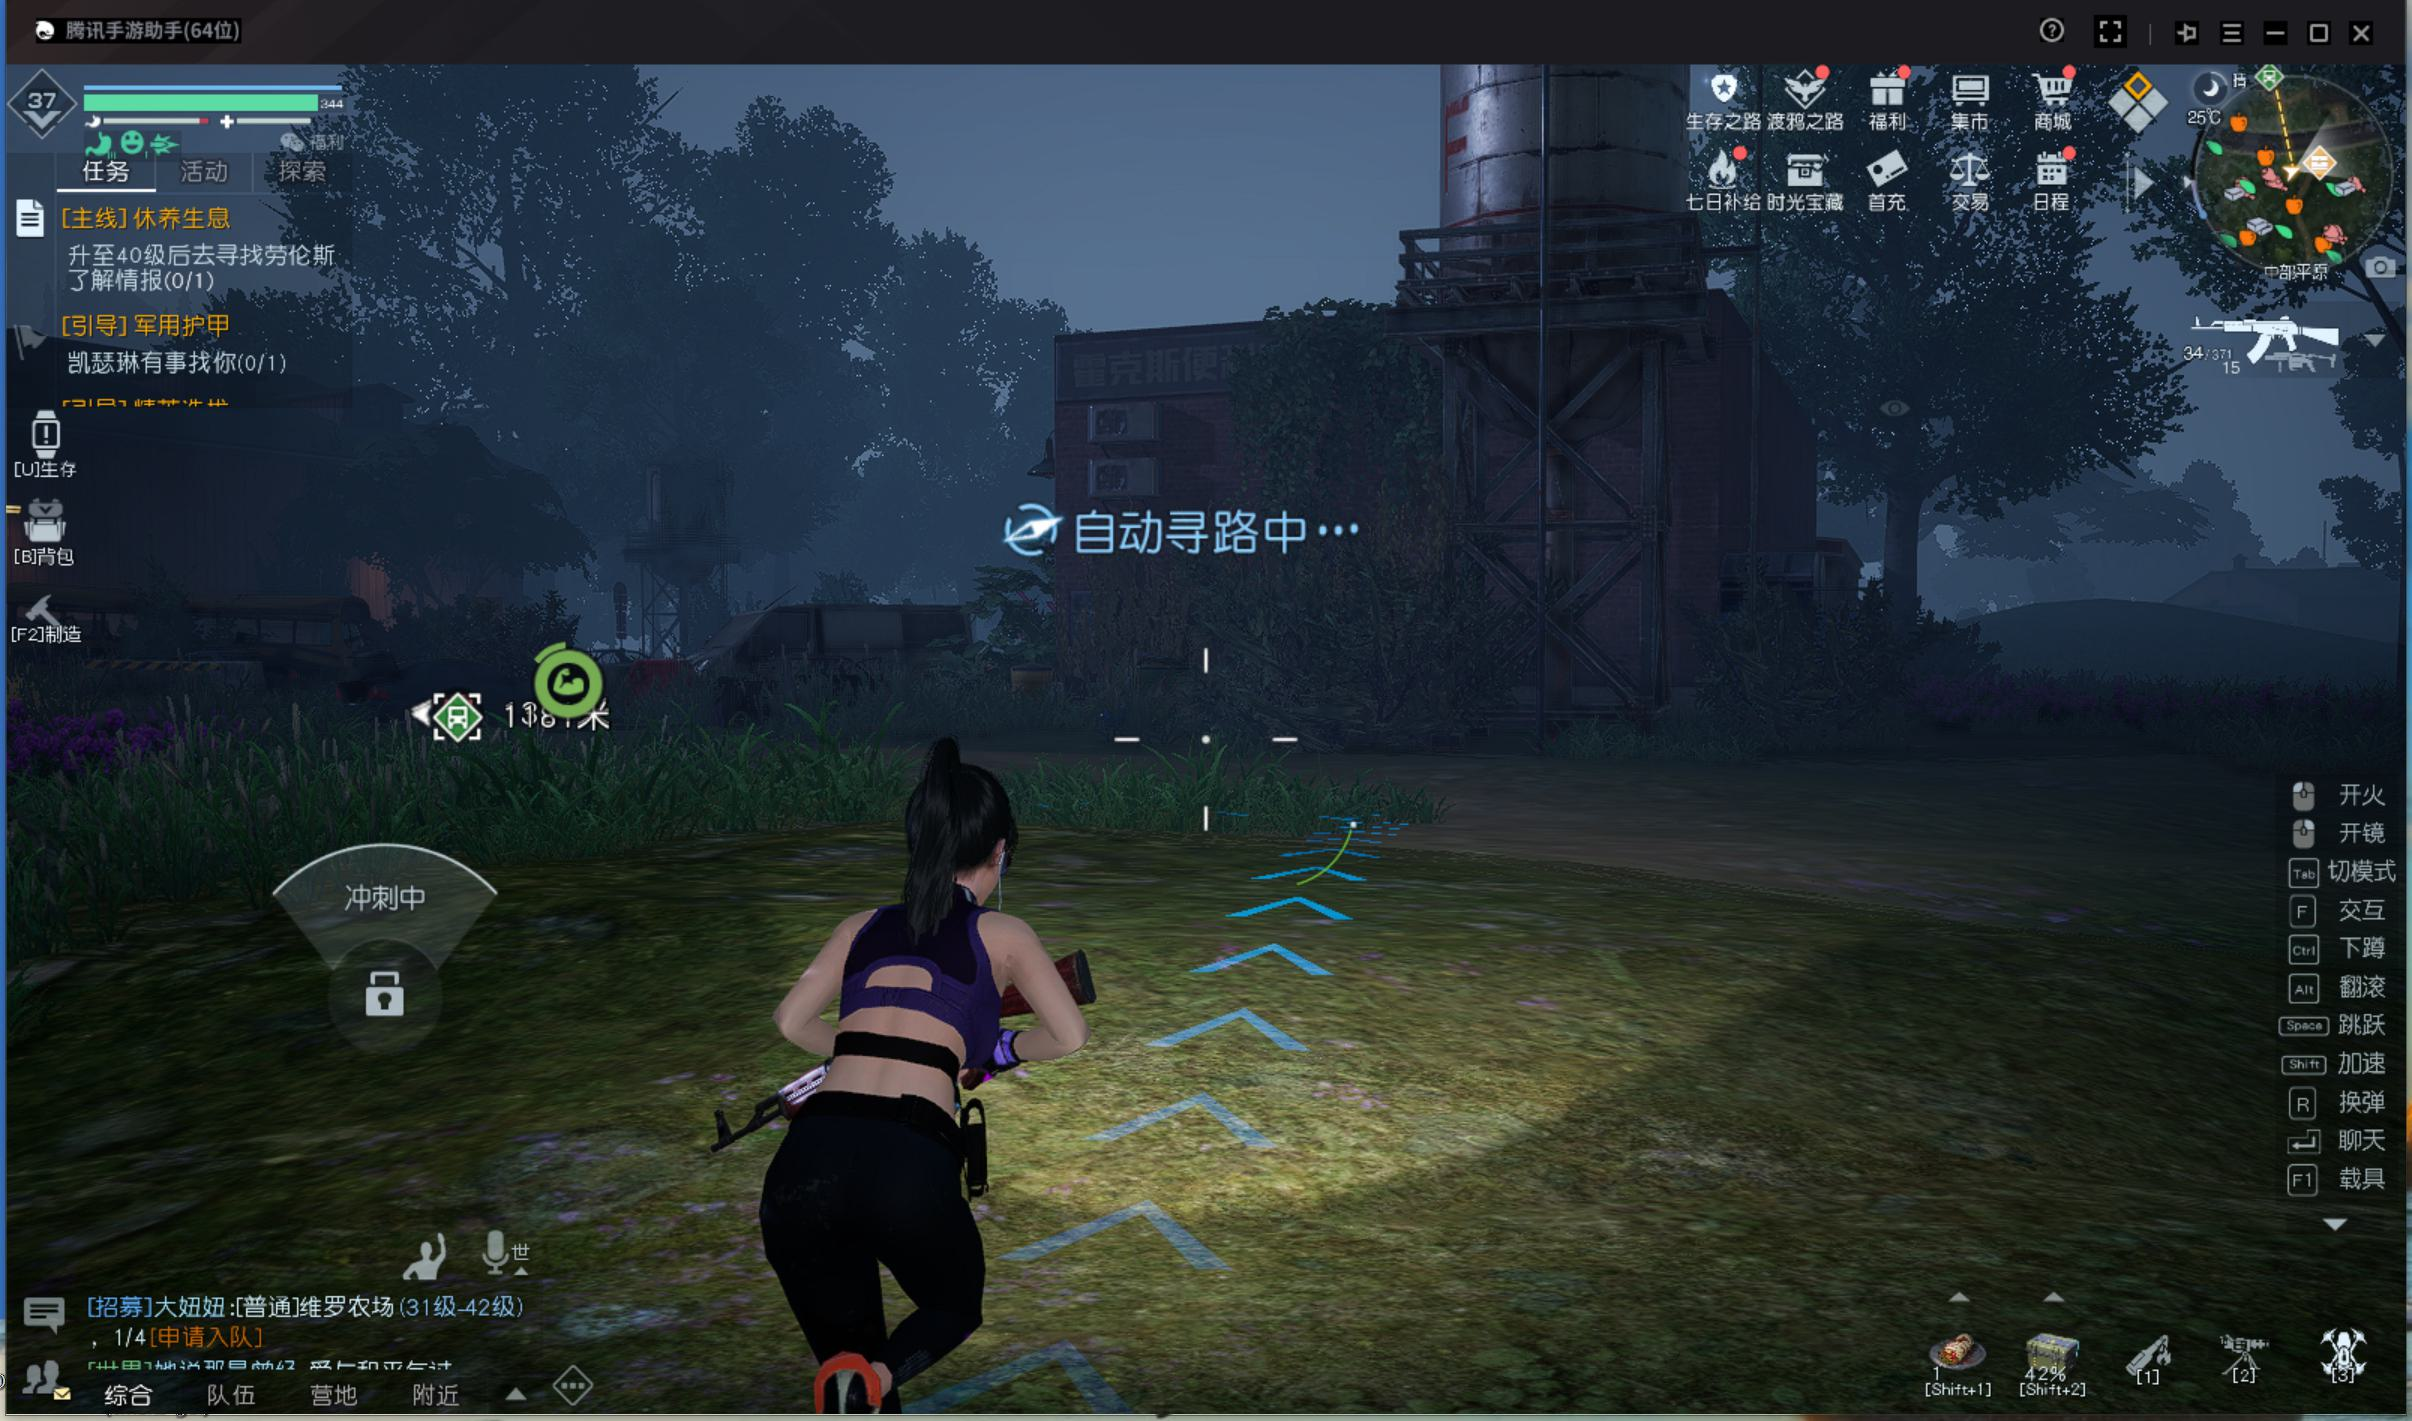tree: (1862, 487, 1920, 658)
